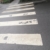zebra: (1, 4, 43, 46)
